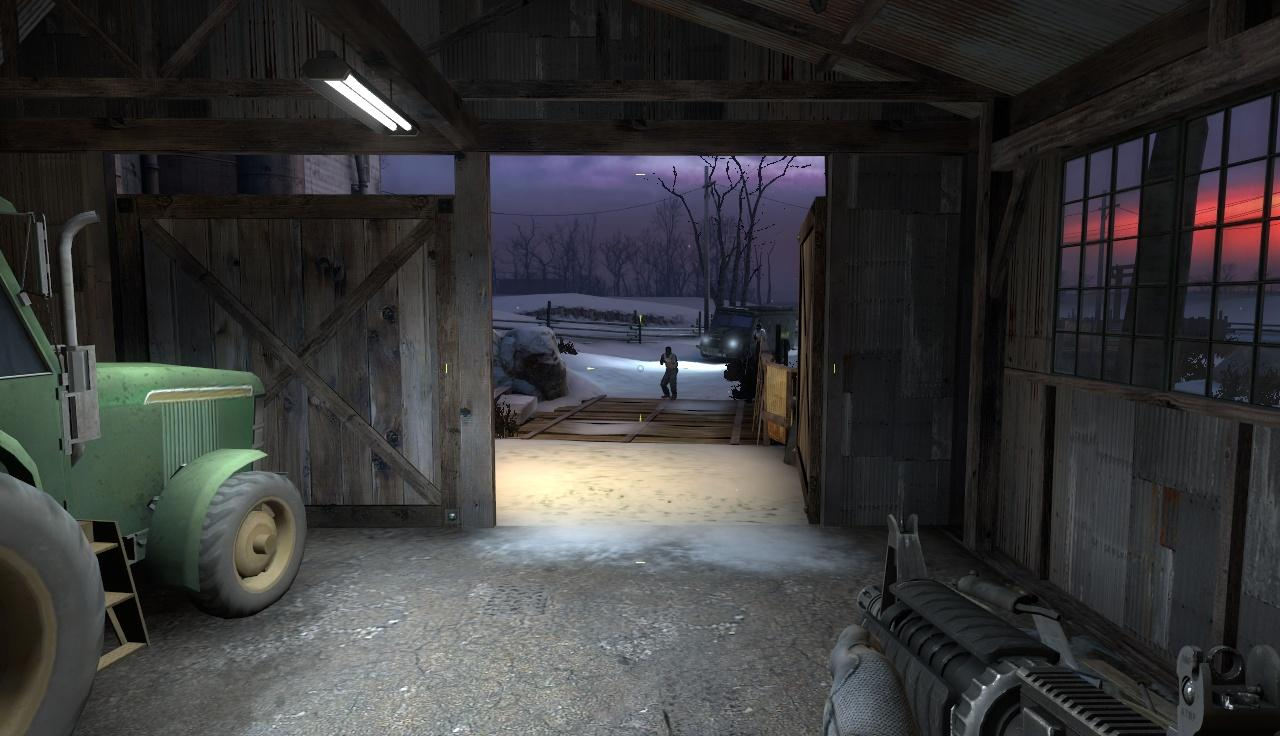rifle: (846, 511, 1280, 736)
tt: (661, 346, 678, 400), (753, 323, 766, 341)
tthead: (664, 347, 672, 356), (756, 323, 762, 331)
